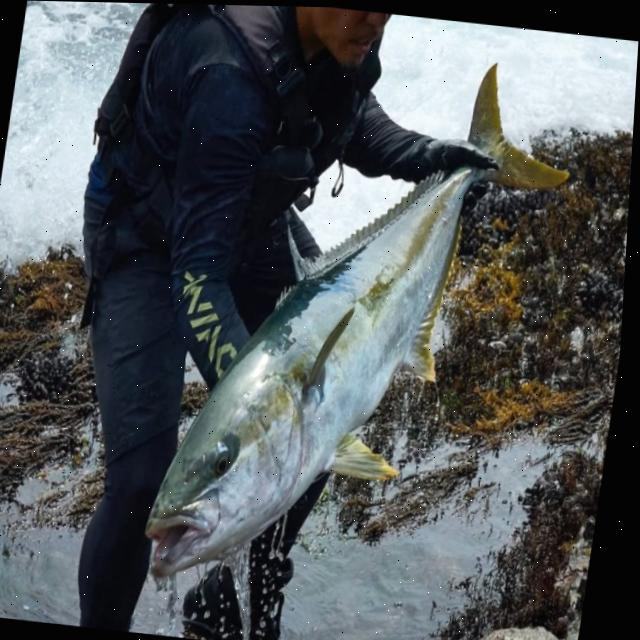Kingfish: (139, 24, 590, 624)
